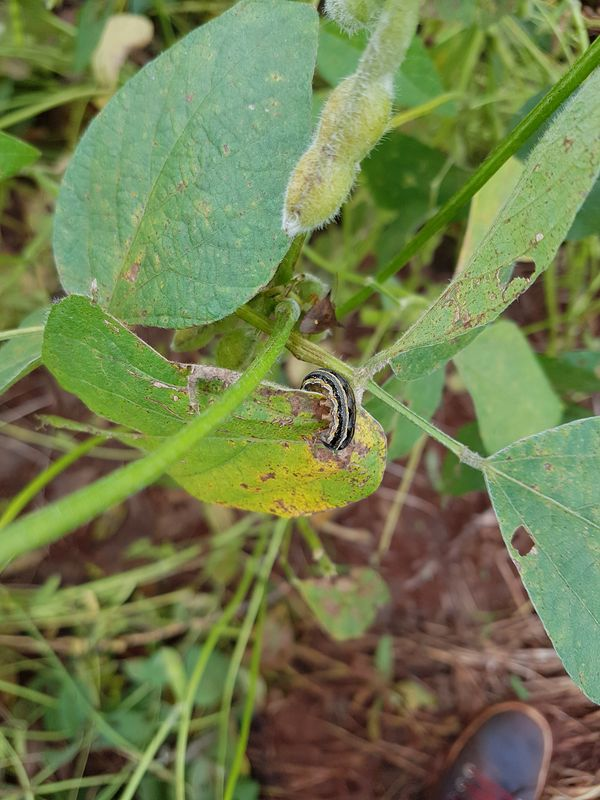Spodoptera_albula: (279, 357, 376, 466)
